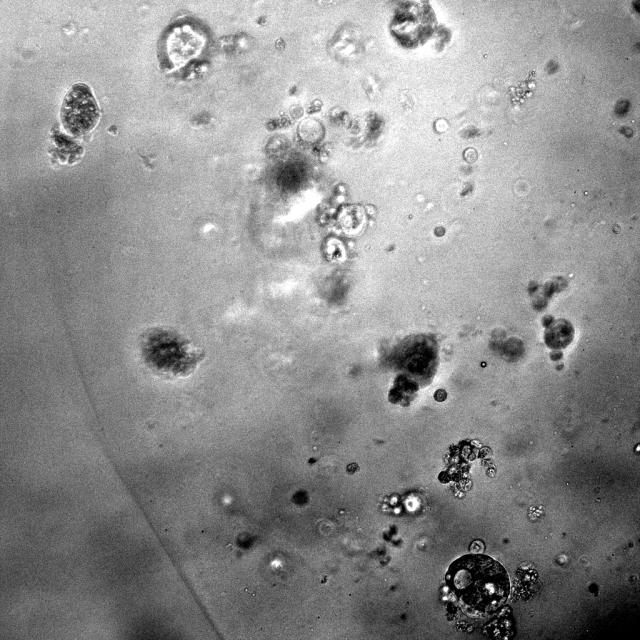organoid: (264, 100, 384, 192), (440, 540, 539, 639), (157, 13, 249, 81), (316, 183, 377, 262), (49, 82, 101, 165), (380, 333, 439, 406), (140, 326, 205, 379), (389, 0, 452, 51), (438, 440, 494, 497), (542, 314, 575, 370), (527, 275, 568, 311), (379, 490, 424, 515), (508, 71, 536, 108), (380, 525, 403, 548), (368, 544, 391, 566), (236, 531, 256, 549), (527, 505, 545, 522), (462, 147, 479, 164), (432, 117, 449, 134), (614, 98, 630, 116), (291, 490, 308, 505), (553, 553, 569, 567), (434, 388, 447, 401), (588, 582, 599, 597), (346, 462, 359, 474), (433, 226, 445, 237)
